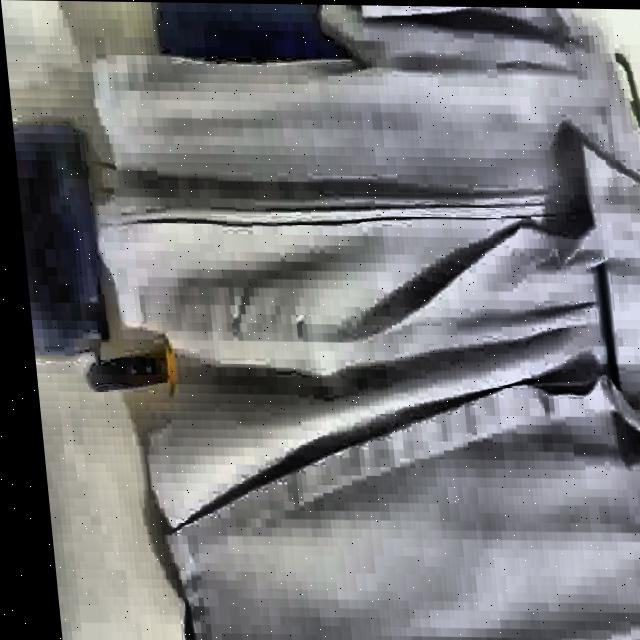clothes: (69, 1, 640, 640)
